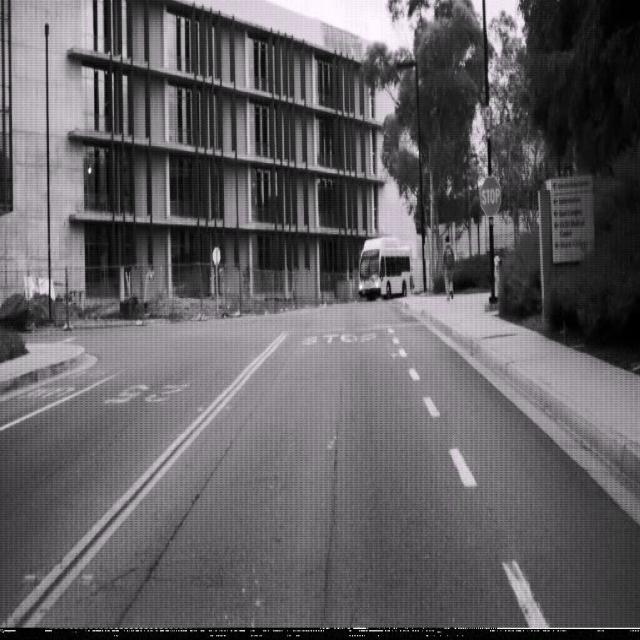stop: (480, 174, 501, 218)
